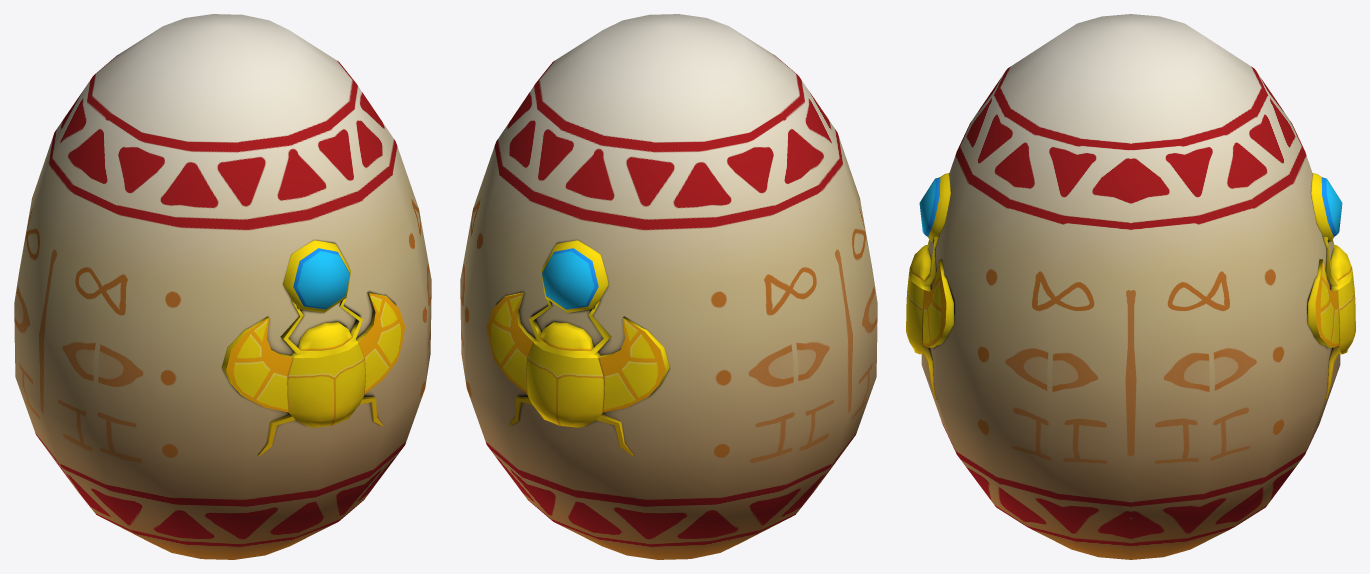
The model's file is egg2map4.fbx.
The picture shows the model from 3 angles, left to right: view 1: azimuth 30°, elevation 25°; view 2: azimuth 150°, elevation 25°; view 3: azimuth 270°, elevation 25°; orthographic projection.
Parts seen in each view (by area): view 1: egg2map4; view 2: egg2map4; view 3: egg2map4.
Part boxes in pixels (box(x1,y1,x2,y2)): egg2map4: box(14, 14, 431, 559); egg2map4: box(460, 14, 877, 559); egg2map4: box(906, 14, 1355, 559).
Bounding box in the file's own units: 30.77 × 41.23 × 32.9.
1 material, 1 textured.
